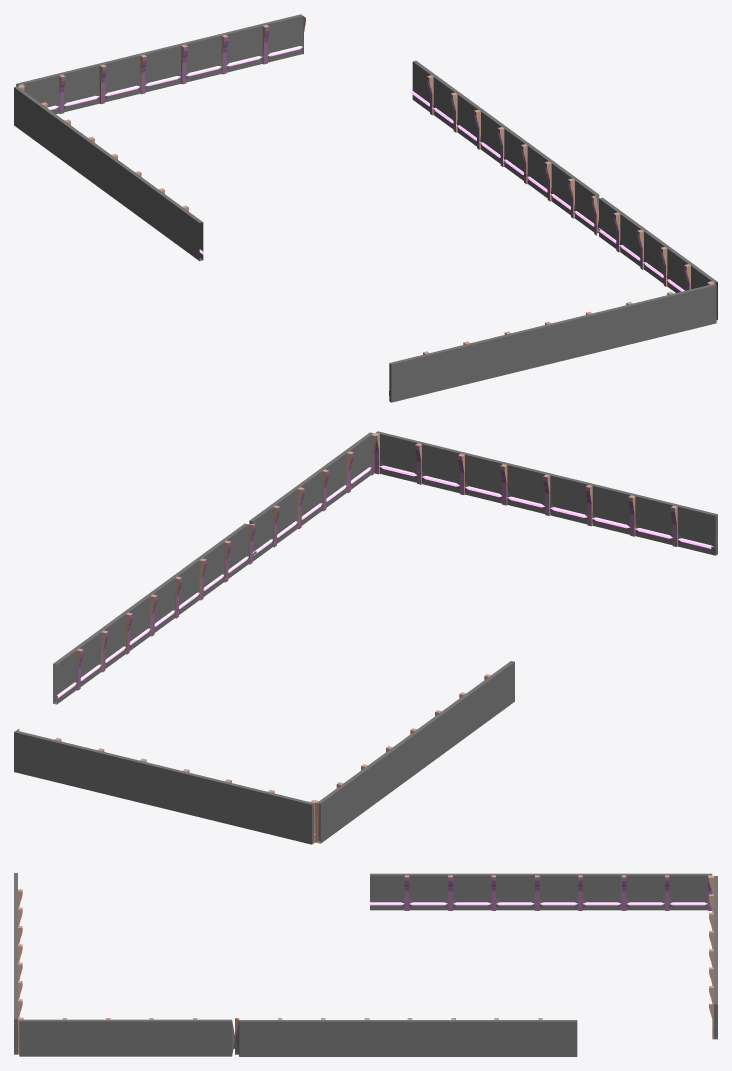
The model's file is walllobby.fbx.
3 views of the same model, one above another, from view 1: azimuth 30°, elevation 25°; view 2: azimuth 150°, elevation 25°; view 3: azimuth 270°, elevation 25° (orthographic). The views are drawn at different scales.
Parts seen in each view (by area): view 1: wallglass; view 2: wallglass; view 3: wallglass.
Part boxes in pixels (bbox=[...]): wallglass: bbox=[14, 14, 717, 402]; wallglass: bbox=[14, 431, 717, 844]; wallglass: bbox=[14, 873, 717, 1056].
Bounding box in the file's own units: 16.64 × 1.84 × 33.31.
